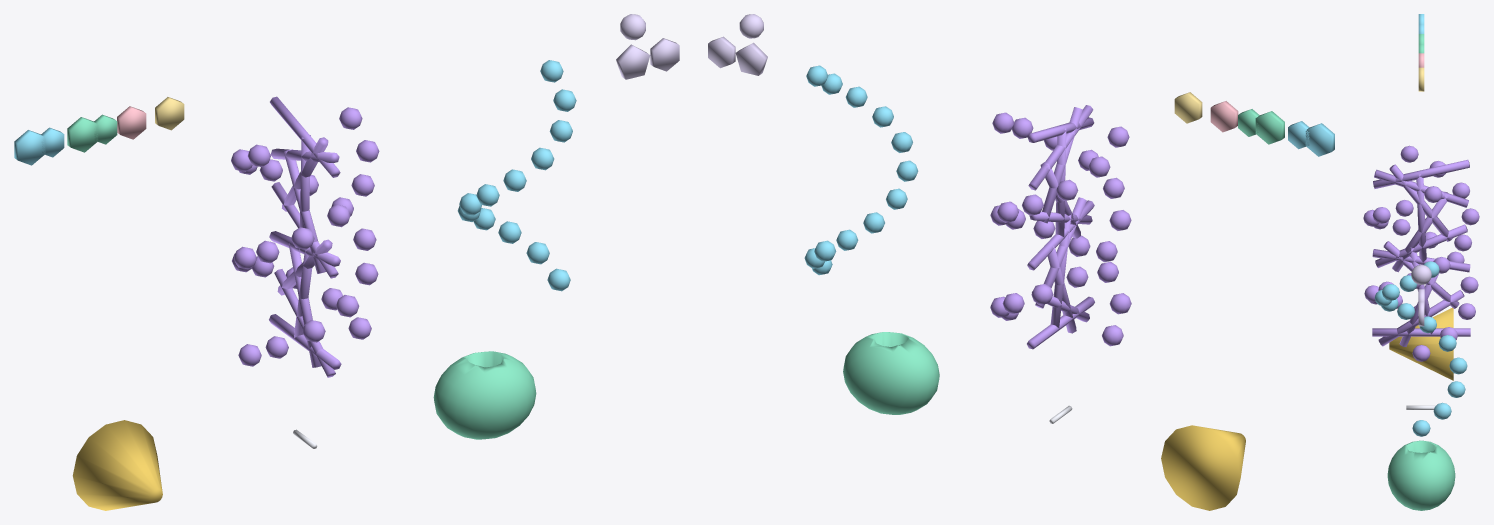
File: dna_kit.glb
3 renders of one model, left to right at view 1: azimuth 30°, elevation 25°; view 2: azimuth 150°, elevation 25°; view 3: azimuth 270°, elevation 25°, orthographic. The views are drawn at different scales.
Parts seen in each view (by area): view 1: dna_helix, dna_polymerase, helicase, backbone_strand, nucleotide_unit, base_a, base_g, base_c, base_t; view 2: dna_helix, dna_polymerase, helicase, backbone_strand, nucleotide_unit, base_g, base_a, base_t, base_c; view 3: dna_helix, dna_polymerase, backbone_strand, helicase, nucleotide_unit, base_t.
Boxes of the visible parts, box(x1,y1,x2,y2) form: dna_helix: box(231, 96, 379, 377); dna_polymerase: box(433, 351, 536, 439); helicase: box(72, 420, 162, 510); backbone_strand: box(457, 60, 576, 291); nucleotide_unit: box(616, 14, 679, 79); base_a: box(14, 127, 64, 165); base_g: box(67, 114, 117, 152); base_c: box(117, 106, 146, 139); base_t: box(155, 97, 184, 130); dna_helix: box(990, 105, 1131, 349); dna_polymerase: box(843, 332, 939, 414); helicase: box(1161, 425, 1245, 510); backbone_strand: box(804, 65, 918, 275); nucleotide_unit: box(708, 14, 767, 75); base_g: box(1238, 109, 1284, 144); base_a: box(1288, 121, 1334, 156); base_t: box(1174, 92, 1202, 123); base_c: box(1210, 101, 1238, 132); dna_helix: box(1363, 145, 1479, 361); dna_polymerase: box(1387, 440, 1455, 510); backbone_strand: box(1374, 261, 1467, 436); helicase: box(1389, 307, 1453, 380); nucleotide_unit: box(1411, 264, 1431, 326); base_t: box(1418, 67, 1424, 91).
Size of the model in its own units: 3.13 by 1.89 by 0.6157.
